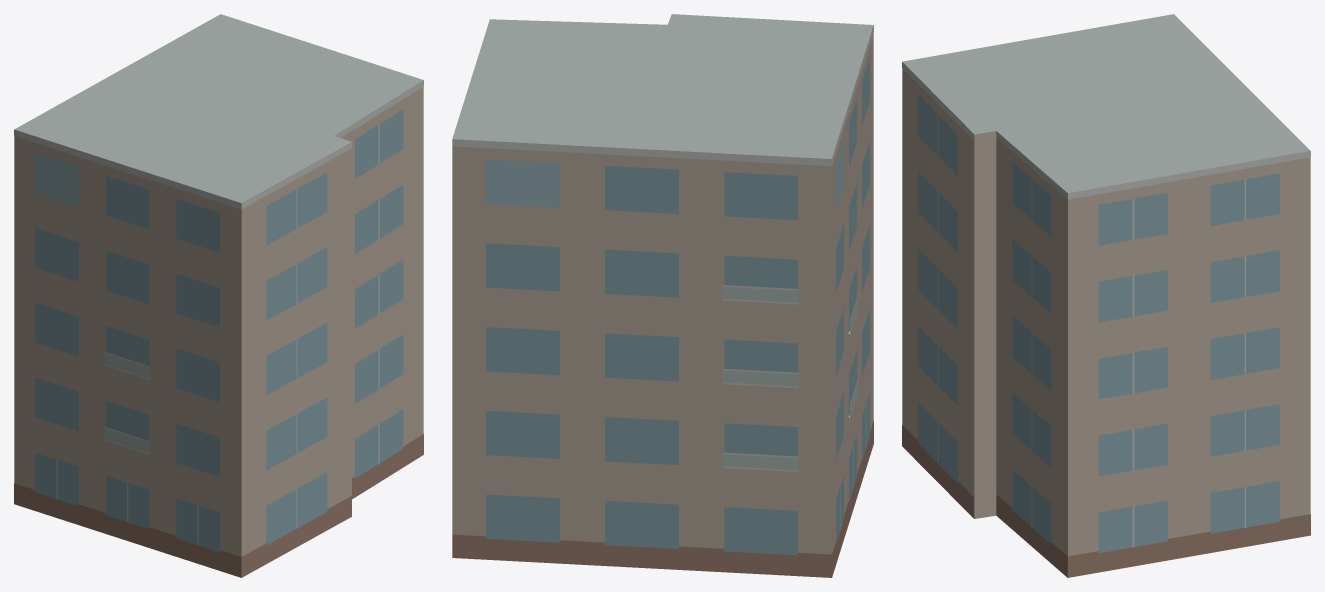
Rendered from survey-upis-32851556.glb.
3 views of the same model, side by side, from view 1: azimuth 30°, elevation 25°; view 2: azimuth 150°, elevation 25°; view 3: azimuth 270°, elevation 25° (orthographic). The views are drawn at different scales.
Parts seen in each view (by area): view 1: survey-upis-32851556.tmp; view 2: survey-upis-32851556.tmp; view 3: survey-upis-32851556.tmp.
Boxes of the visible parts, x1,y1,x2,y2 form: survey-upis-32851556.tmp: (14, 14, 423, 577); survey-upis-32851556.tmp: (452, 14, 873, 577); survey-upis-32851556.tmp: (902, 14, 1310, 577).
Bounding box in the file's own units: 14.3 × 14.3 × 13.78.
